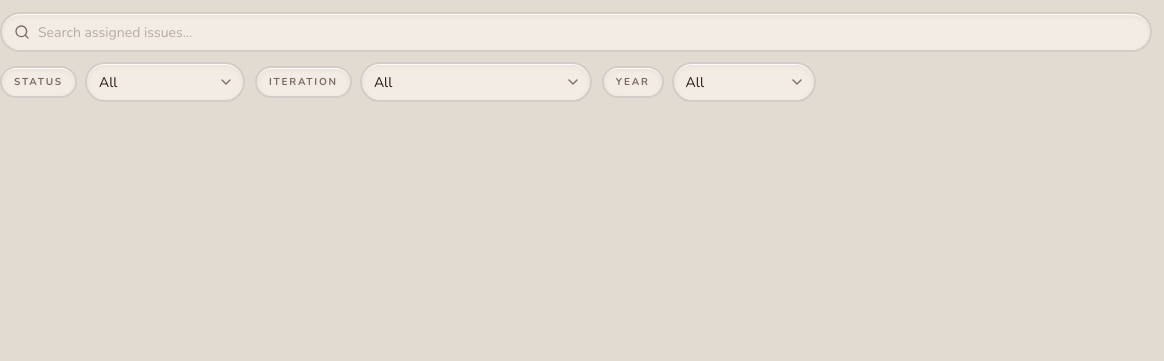
Test: AssignedIssuesFilters › shows normalized workflow buckets and all in the status combobox
The width and height of the screenshot is (1164, 361).
Click the button without text next to "Status": (226, 82) x1=214 y1=70 x2=238 y2=94
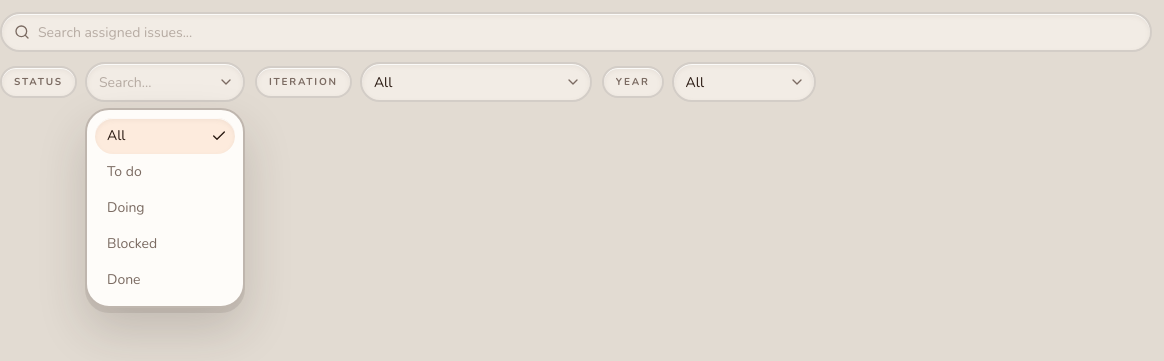
Expected: the text "To do" is shown, x1=107 y1=162 x2=142 y2=181
Expected: the text "Doing" is shown, x1=107 y1=198 x2=145 y2=217
Expected: the text "Blocked" is shown, x1=107 y1=234 x2=157 y2=253
